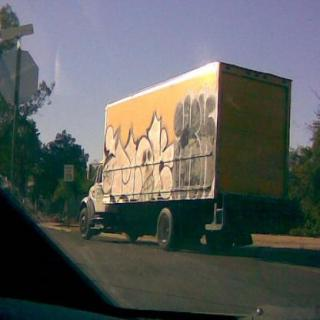Normal_vehicle: (76, 54, 294, 260)
